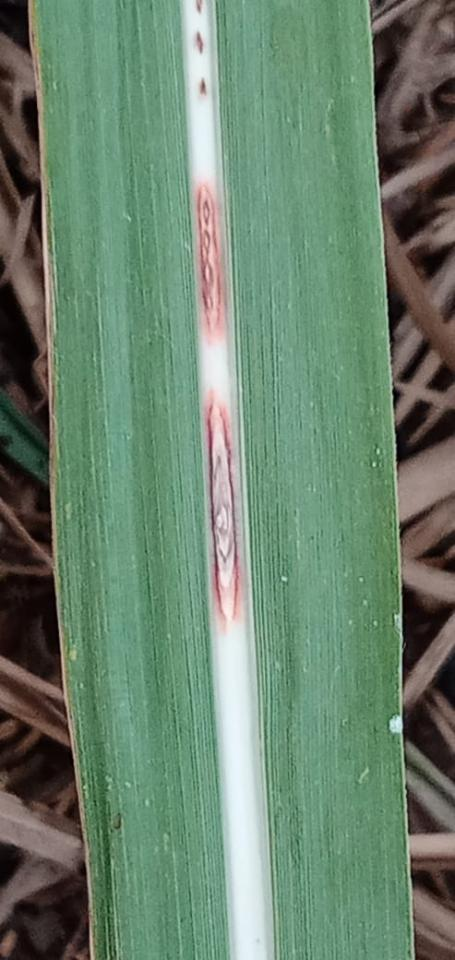RedRot: (205, 390, 241, 620), (195, 183, 227, 341), (193, 31, 203, 55), (199, 77, 207, 96), (195, 0, 203, 16)
